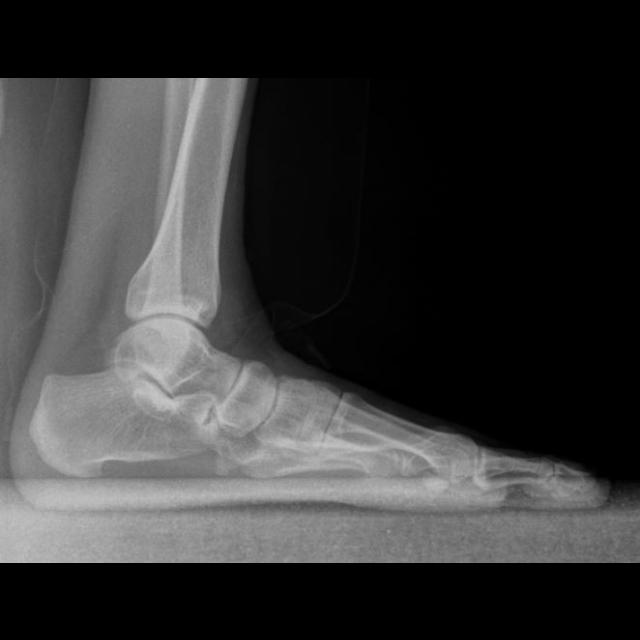a: (29, 367, 219, 484)
b: (213, 359, 279, 435)
c: (322, 389, 480, 482)
